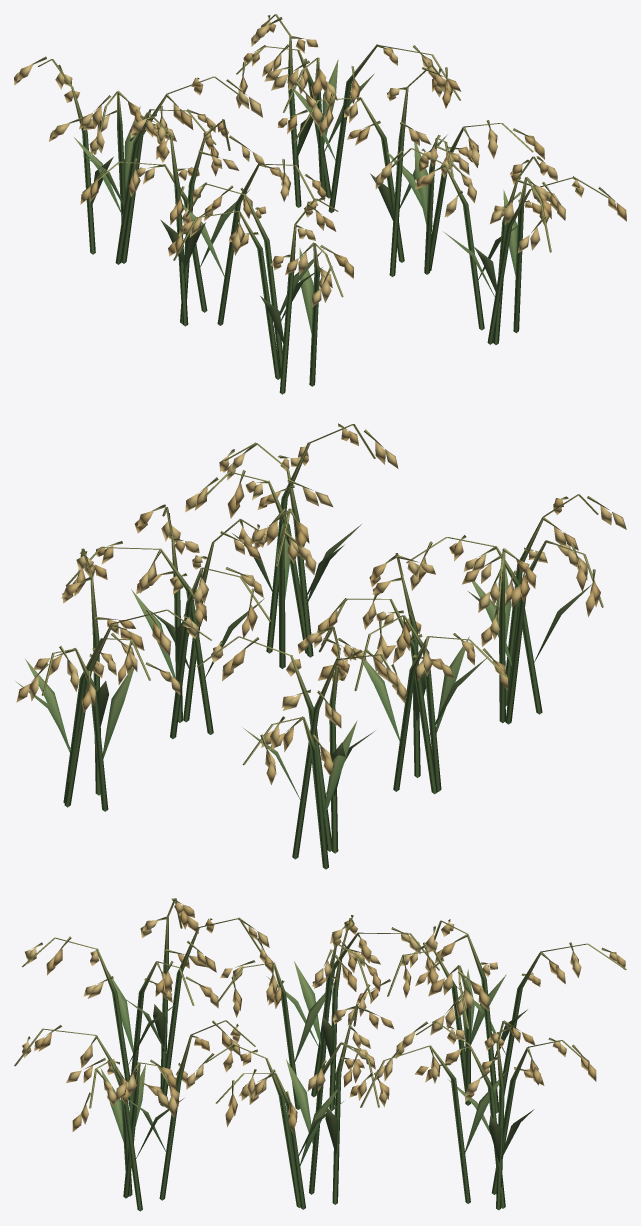
The model's file is rice-near.glb.
3 views of the same model, one above another, from view 1: azimuth 30°, elevation 25°; view 2: azimuth 150°, elevation 25°; view 3: azimuth 270°, elevation 25° (orthographic). The views are drawn at different scales.
Parts seen in each view (by area): view 1: rice-near; view 2: rice-near; view 3: rice-near.
Part boxes in pixels (x1,y1,x2,y2): rice-near: [14, 14, 626, 394]; rice-near: [15, 423, 626, 869]; rice-near: [14, 898, 626, 1211].
Size of the model in its own units: 3.13 by 1.35 by 4.26.
